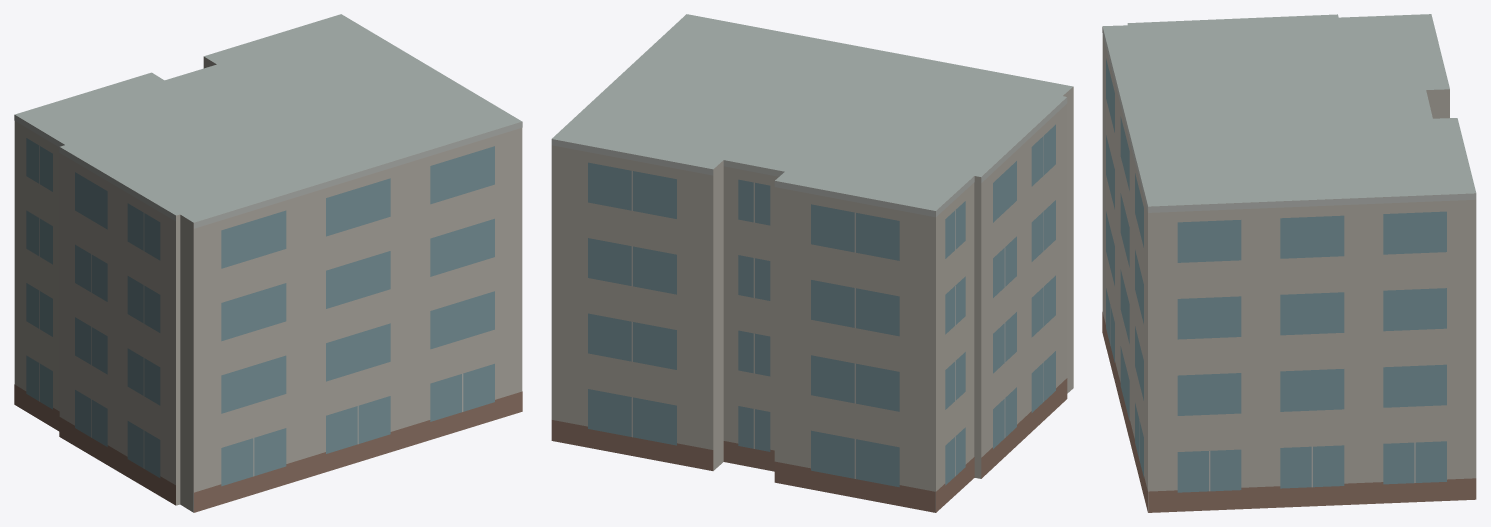
The model's file is survey-upis-32916618.glb.
3 renders of one model, left to right at view 1: azimuth 30°, elevation 25°; view 2: azimuth 150°, elevation 25°; view 3: azimuth 270°, elevation 25°, orthographic. The views are drawn at different scales.
Parts seen in each view (by area): view 1: survey-upis-32916618.tmp; view 2: survey-upis-32916618.tmp; view 3: survey-upis-32916618.tmp.
Boxes of the visible parts, <box> form: survey-upis-32916618.tmp: <box>14,14,522,512</box>; survey-upis-32916618.tmp: <box>551,14,1073,512</box>; survey-upis-32916618.tmp: <box>1102,14,1476,512</box>.
Bounding box in the file's own units: 15.79 × 11.7 × 12.96.
